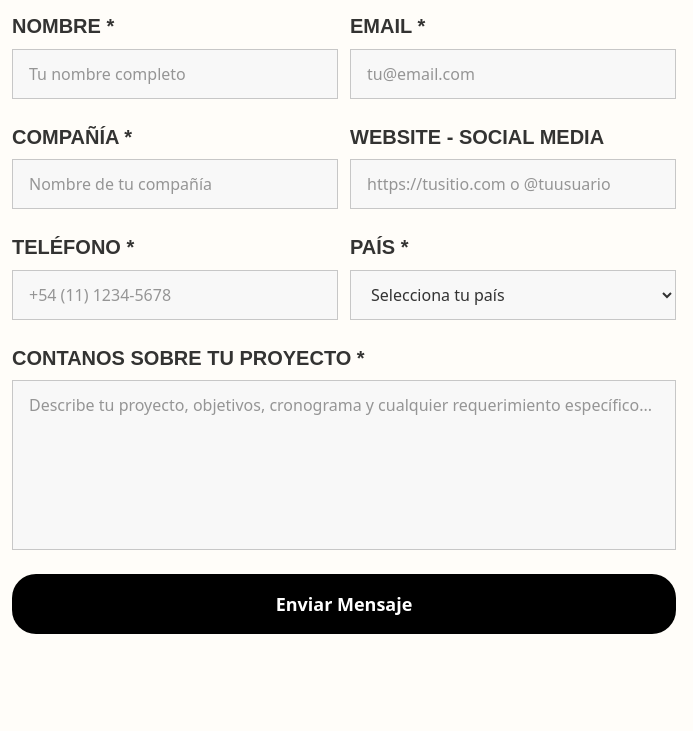
Test: ContactForm › shows validation error for short name
In the field labelled "NOMBRE *": (175, 74) [12,49,338,99], type "A"
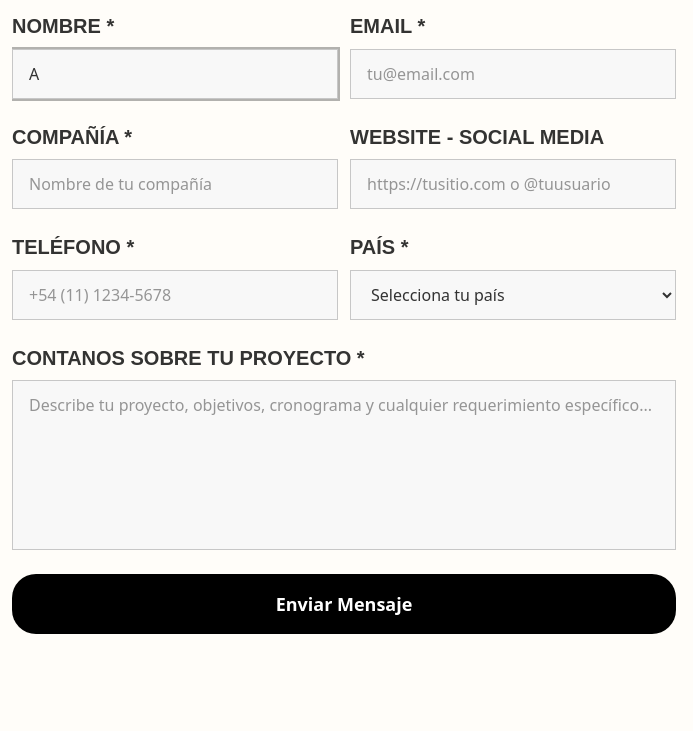
Click the button "Enviar Mensaje": (344, 604) [12,574,676,634]
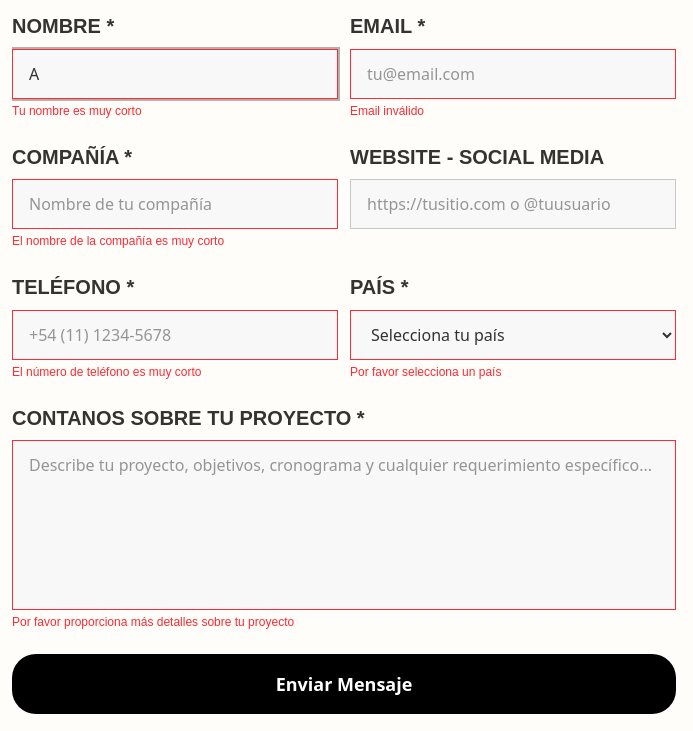
Result: the text "Tu nombre es muy corto" is shown at [12,104,142,118]
